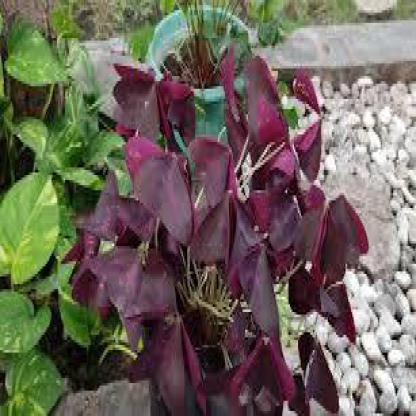Kupu-Kupu: (76, 237, 313, 394), (127, 161, 272, 252), (221, 50, 336, 164), (295, 194, 368, 341), (111, 39, 200, 148)
